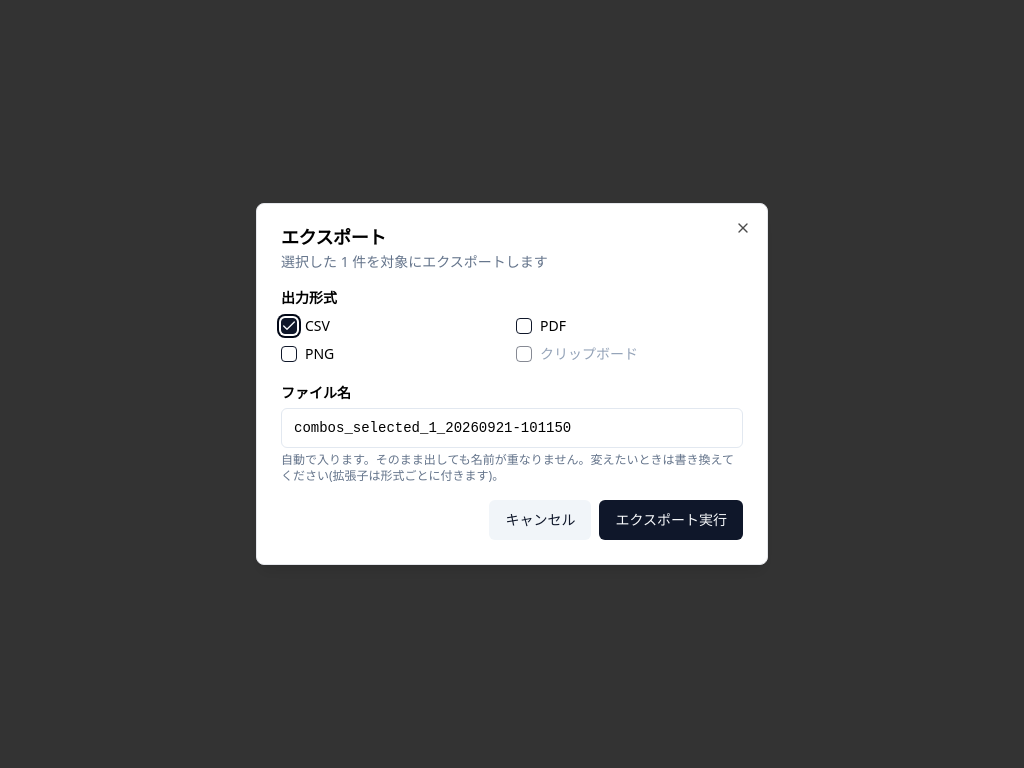
ExportDialog › クリップボードは他形式が選択中だと非活性、他形式もクリップボード選択中は非活性
Check: the checkbox with test id "export-format-clipboard" is disabled, box top-left (516, 346), bottom-right (532, 362)
csv を外すとクリップボードが活性化
Click the checkbox with test id "export-format-csv": (289, 326) top-left (281, 318), bottom-right (297, 334)
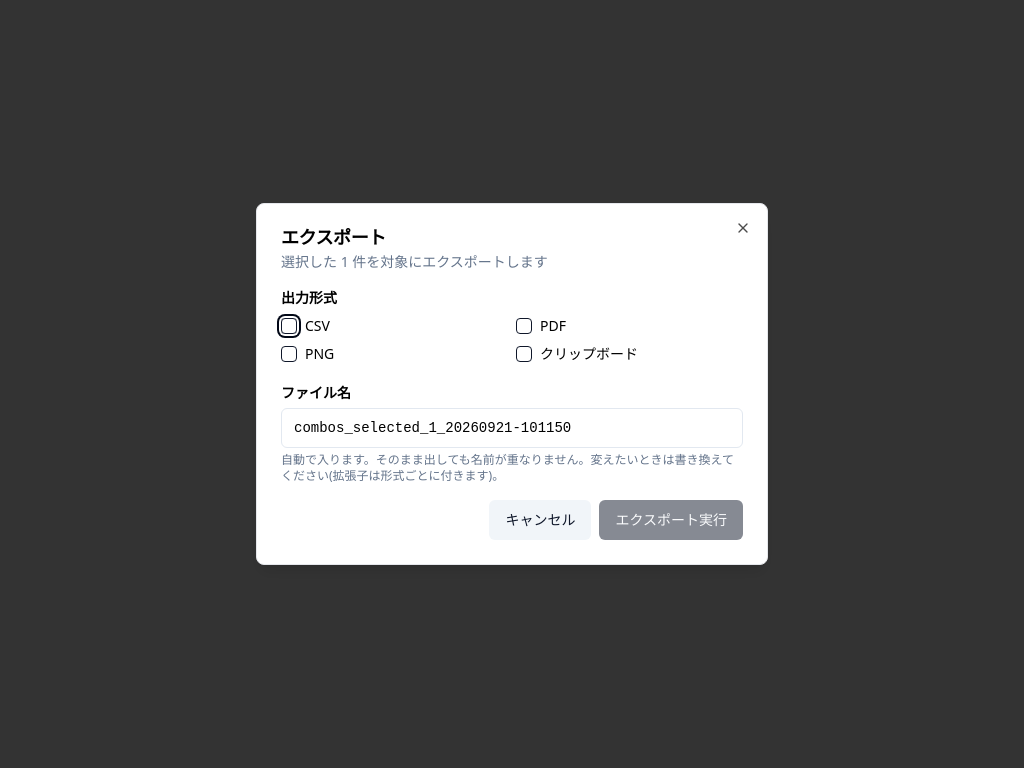
Check: the checkbox with test id "export-format-clipboard" is enabled
クリップボードを選択すると他形式が非活性
Click the checkbox with test id "export-format-clipboard": (524, 354) top-left (516, 346), bottom-right (532, 362)
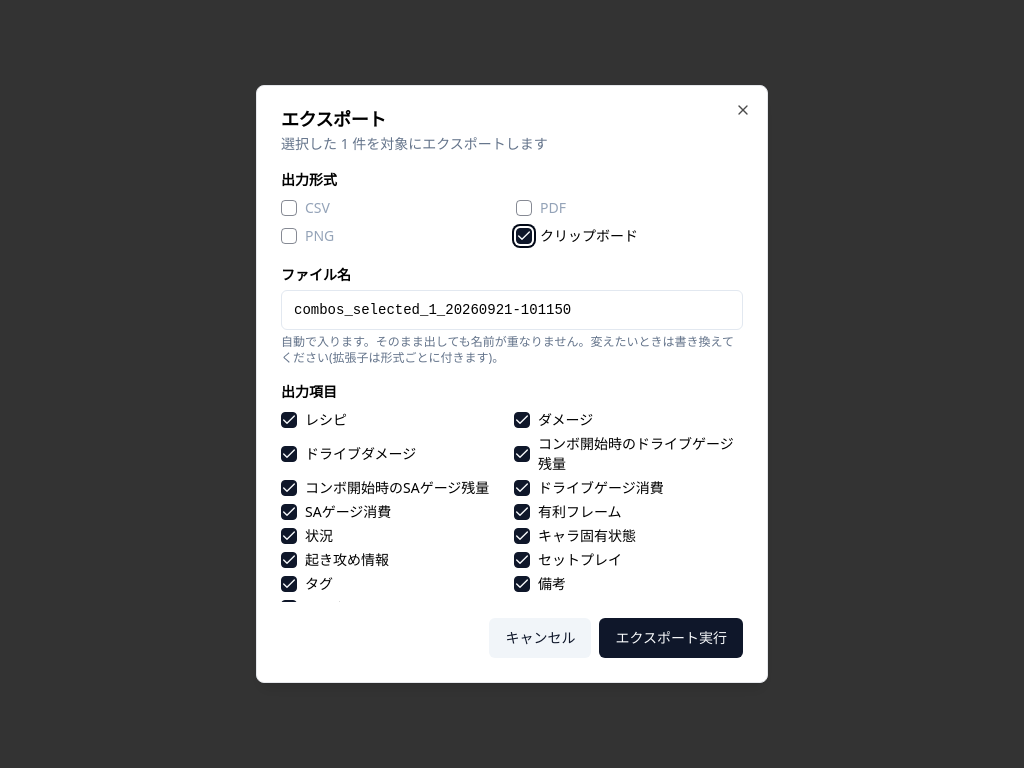
Check: the checkbox with test id "export-format-csv" is disabled, box top-left (281, 200), bottom-right (297, 216)
Check: the checkbox with test id "export-format-pdf" is disabled, box top-left (516, 200), bottom-right (532, 216)
Check: the checkbox with test id "export-format-png" is disabled, box top-left (281, 228), bottom-right (297, 244)
